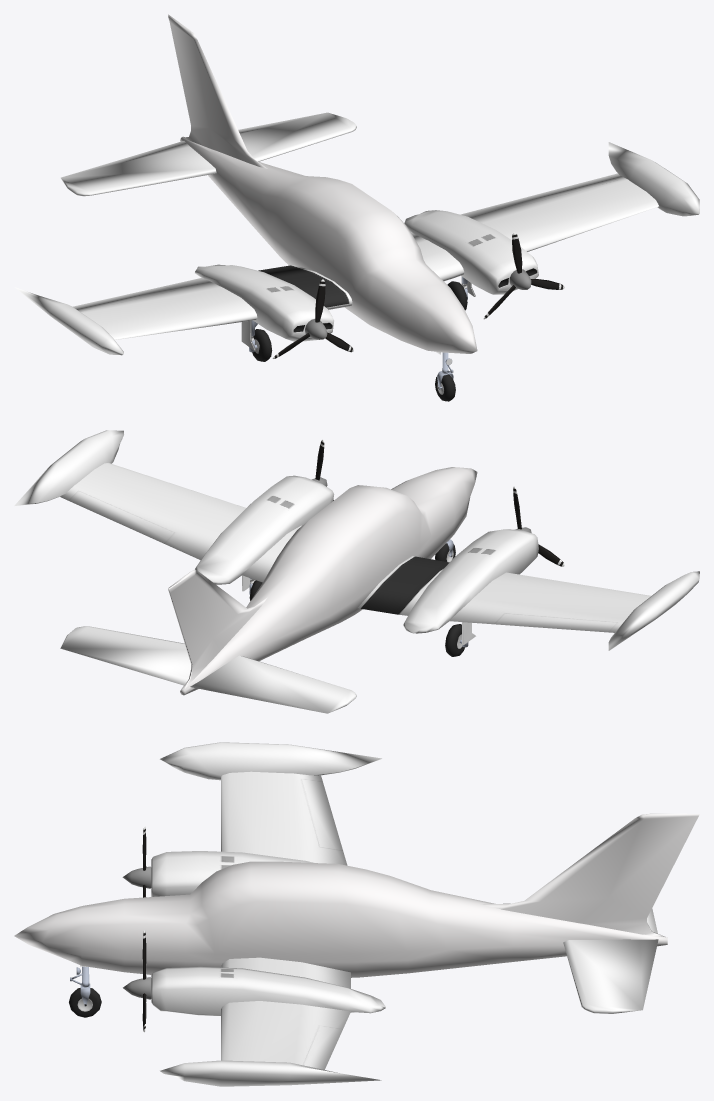
The model's file is cessna310.lod1.glb.
The picture shows the model from 3 angles, top to bottom: view 1: azimuth 30°, elevation 25°; view 2: azimuth 150°, elevation 25°; view 3: azimuth 270°, elevation 25°; orthographic projection. The views are drawn at different scales.
Parts seen in each view (by area): view 1: Cube__0, Engine_Texture2_0, Prop1_PropellorTexture_0; view 2: Cube__0, Engine_Texture2_0, Prop1_PropellorTexture_0; view 3: Cube__0, Engine_Texture2_0.
Part boxes in pixels (<box>): Cube__0: <box>14,14,699,401</box>; Engine_Texture2_0: <box>73,173,658,341</box>; Prop1_PropellorTexture_0: <box>272,232,564,359</box>; Cube__0: <box>14,430,699,713</box>; Engine_Texture2_0: <box>60,463,650,633</box>; Prop1_PropellorTexture_0: <box>315,439,564,566</box>; Cube__0: <box>14,742,699,1086</box>; Engine_Texture2_0: <box>151,771,385,1069</box>.
Bounding box in the file's own units: 11.3 × 3.26 × 9.97.
4 materials, 2 textured.
